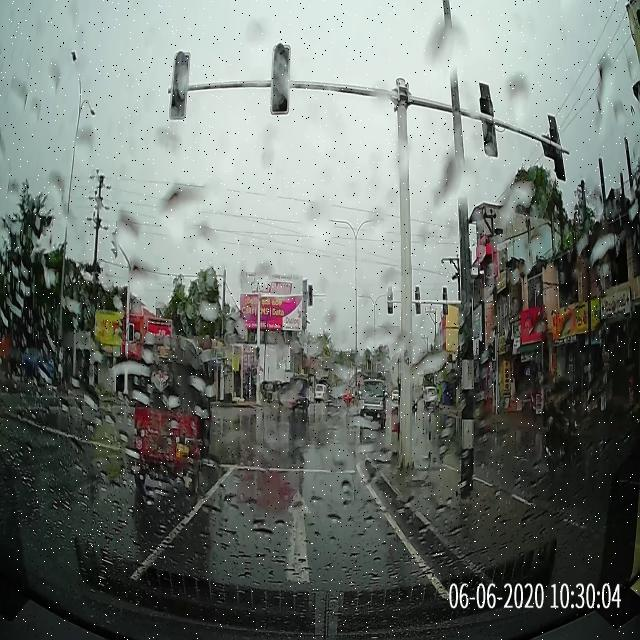forward: (127, 484, 441, 585)
